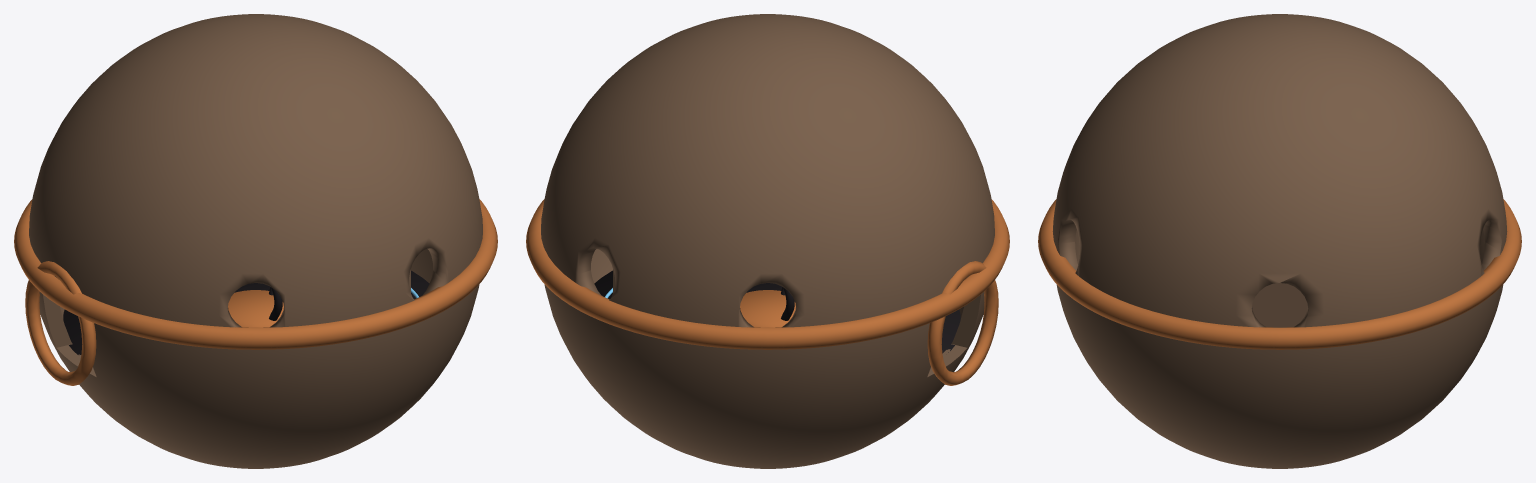
The model's file is modul_start.obj.
The picture shows the model from 3 angles, left to right: view 1: azimuth 30°, elevation 25°; view 2: azimuth 150°, elevation 25°; view 3: azimuth 270°, elevation 25°; orthographic projection.
Parts seen in each view (by area): view 1: Modul_start; view 2: Modul_start; view 3: Modul_start.
Part boxes in pixels (bbox=[...]): Modul_start: bbox=[14, 14, 497, 468]; Modul_start: bbox=[526, 14, 1009, 468]; Modul_start: bbox=[1038, 14, 1521, 468].
Bounding box in the file's own units: 20.4 × 19.2 × 20.4.
